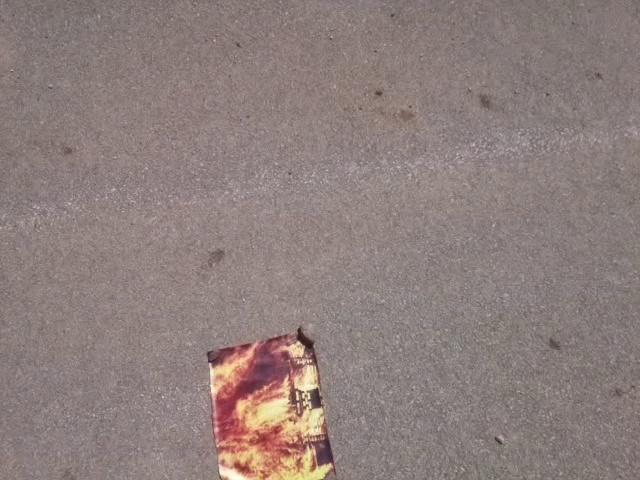fire-poster: (204, 323, 339, 479)
